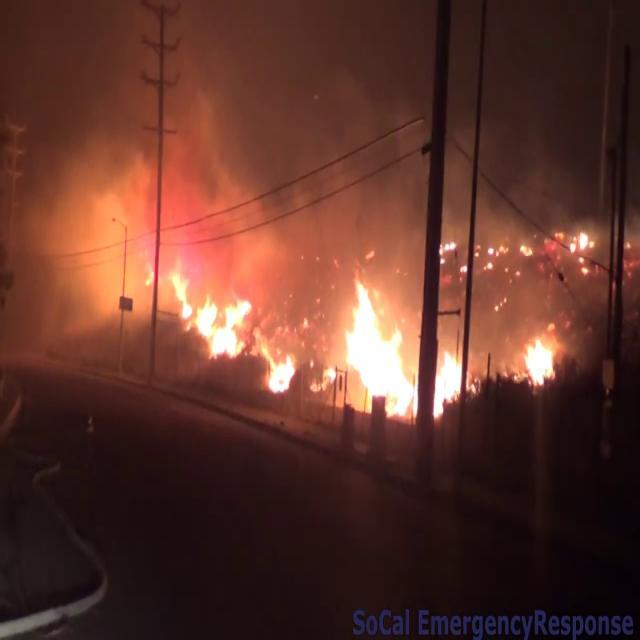Fire: (338, 262, 418, 422), (136, 258, 260, 358), (171, 262, 259, 360), (262, 332, 302, 400), (519, 326, 559, 391), (434, 340, 464, 418)
Smoke: (3, 0, 441, 280)
